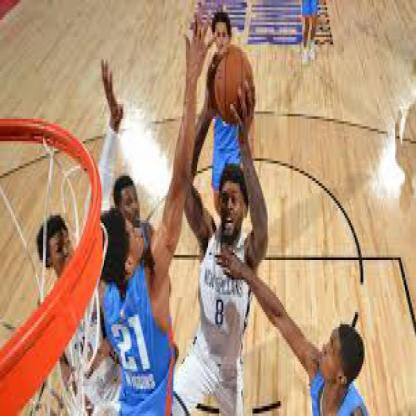basketball: (212, 47, 255, 121)
rim: (0, 118, 107, 414)
